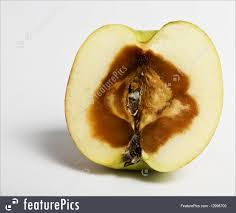damaged_apple: (61, 21, 226, 174)
